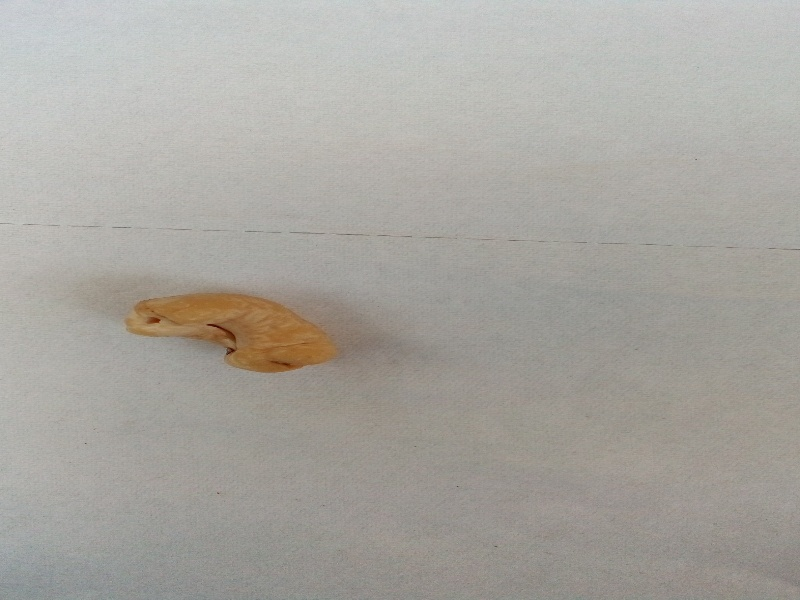cashew: (117, 260, 367, 405)
